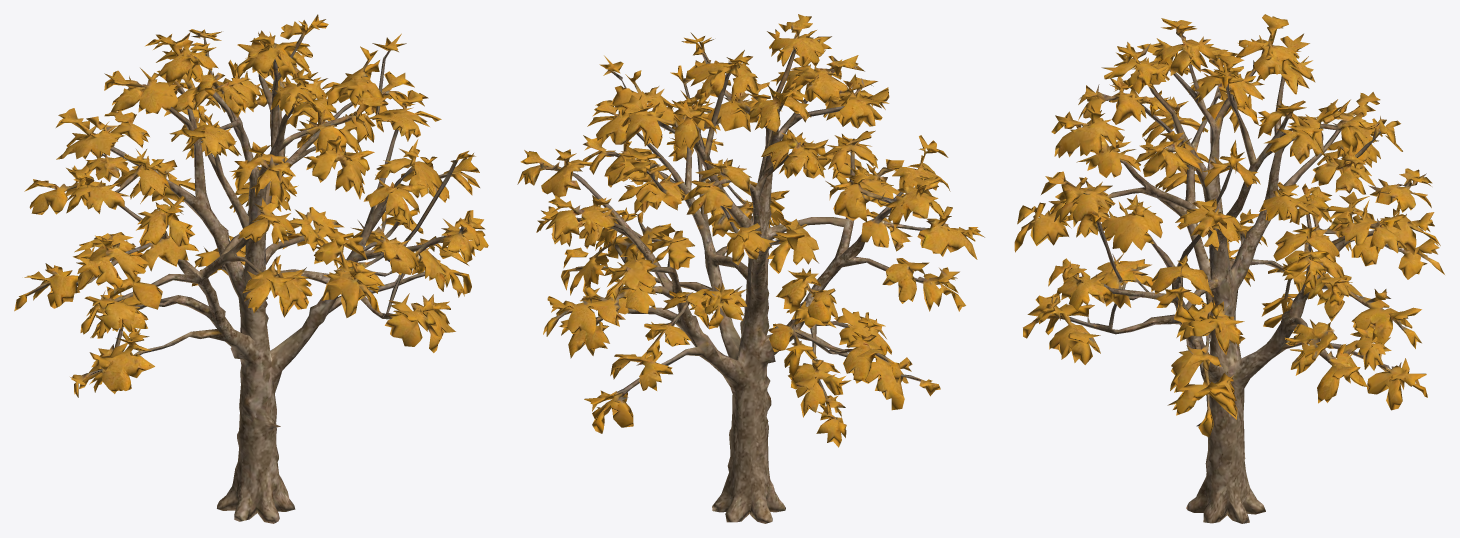
File: tree-02-plane-autumn.glb
3 views of the same model, side by side, from view 1: azimuth 30°, elevation 25°; view 2: azimuth 150°, elevation 25°; view 3: azimuth 270°, elevation 25° (orthographic). The views are drawn at different scales.
Visible parts, largest first — view 1: tripo_node_a345c11d-c4cb-4634-b0ec-16655192c0fa; view 2: tripo_node_a345c11d-c4cb-4634-b0ec-16655192c0fa; view 3: tripo_node_a345c11d-c4cb-4634-b0ec-16655192c0fa.
Part boxes in pixels (x1,y1,x2,y2): tripo_node_a345c11d-c4cb-4634-b0ec-16655192c0fa: (14, 14, 488, 523); tripo_node_a345c11d-c4cb-4634-b0ec-16655192c0fa: (517, 14, 984, 523); tripo_node_a345c11d-c4cb-4634-b0ec-16655192c0fa: (1014, 14, 1444, 523).
Bounding box in the file's own units: 0.9094 × 1 × 0.8358.
Materials: 1 (1 with a texture image).
